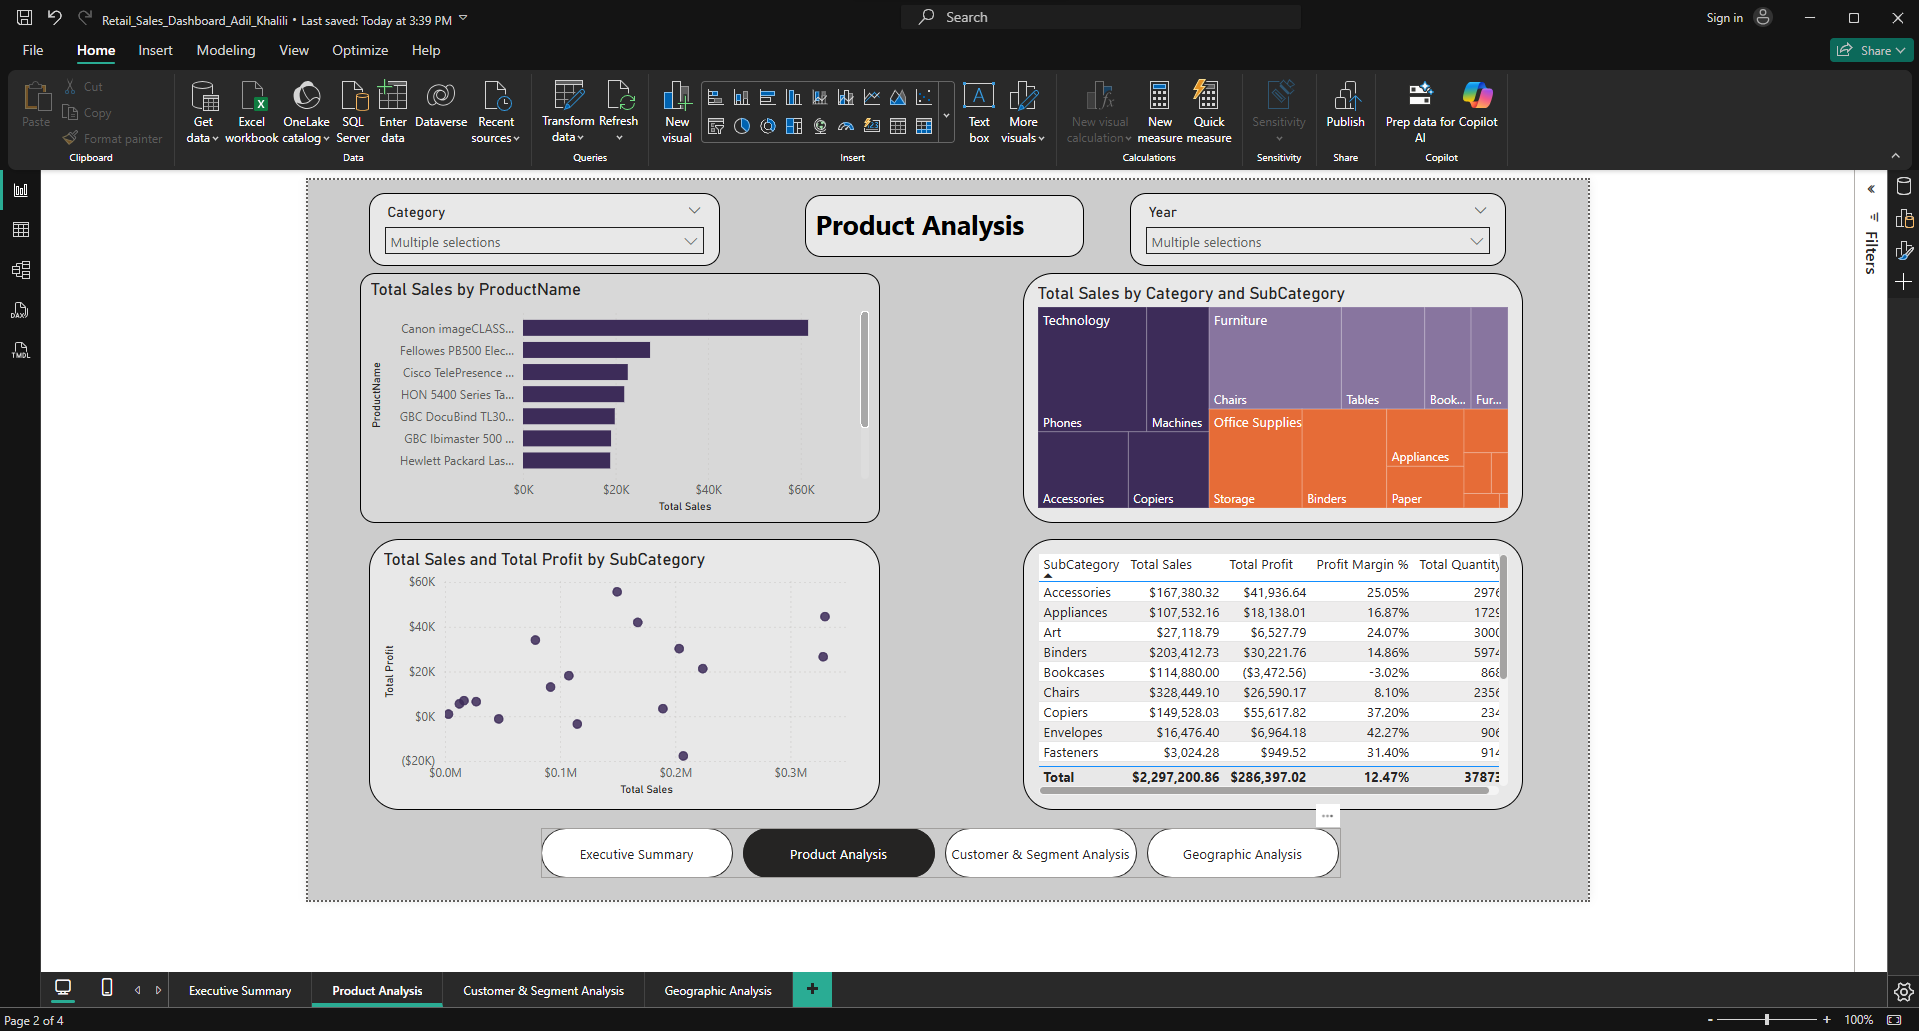

The dashboard page shown, as its layout file describes it:
{"tool":"powerbi","page":{"name":"Product Analysis","canvas":[1280,720],"ordinal":1},"visuals":[{"type":"clusteredBarChart","fields":{"Category":["Dim_Product.ProductName"],"Y":["_Measures.Total Sales"]},"box":[51.9,92.6,520.4,250],"z":0},{"type":"treemap","fields":{"Details":["Dim_Product.SubCategory"],"Group":["Dim_Product.Category"],"Values":["_Measures.Total Sales"]},"box":[714.8,92.6,500,250],"z":1},{"type":"scatterChart","fields":{"Category":["Dim_Product.SubCategory"],"X":["_Measures.Total Sales"],"Y":["_Measures.Total Profit"]},"box":[61.1,359.3,511.1,270.4],"z":2},{"type":"tableEx","fields":{"Values":["Dim_Product.SubCategory","_Measures.Total Sales","_Measures.Total Profit","_Measures.Profit Margin %","_Measures.Total Quantity"]},"box":[714.8,359.3,500,270.4],"z":3},{"type":"slicer","fields":{"Values":["Dim_Product.Category"]},"box":[61,13,351,73],"z":4},{"type":"slicer","fields":{"Values":["Dim_Date.Year"]},"box":[822,13,376,73],"z":5},{"type":"textbox","box":[496.6,14.7,279.5,62.5],"z":6},{"type":"pageNavigator","box":[233.3,648.1,800,50],"z":7}]}

Visuals, with their boxes on the page's 1280x720 design canvas (x1, y1, x2, y2). These are canvas units, not pixel positions in the 1919x1031 screenshot, which may show the page scaled, cropped or inside an application window:
clusteredBarChart - Dim_Product.ProductName x _Measures.Total Sales: <bbox>52, 93, 572, 343</bbox>
treemap - Dim_Product.SubCategory x Dim_Product.Category: <bbox>715, 93, 1215, 343</bbox>
scatterChart - Dim_Product.SubCategory x _Measures.Total Sales: <bbox>61, 359, 572, 630</bbox>
tableEx - Dim_Product.SubCategory x _Measures.Total Sales: <bbox>715, 359, 1215, 630</bbox>
slicer - Dim_Product.Category: <bbox>61, 13, 412, 86</bbox>
slicer - Dim_Date.Year: <bbox>822, 13, 1198, 86</bbox>
textbox: <bbox>497, 15, 776, 77</bbox>
pageNavigator: <bbox>233, 648, 1033, 698</bbox>
